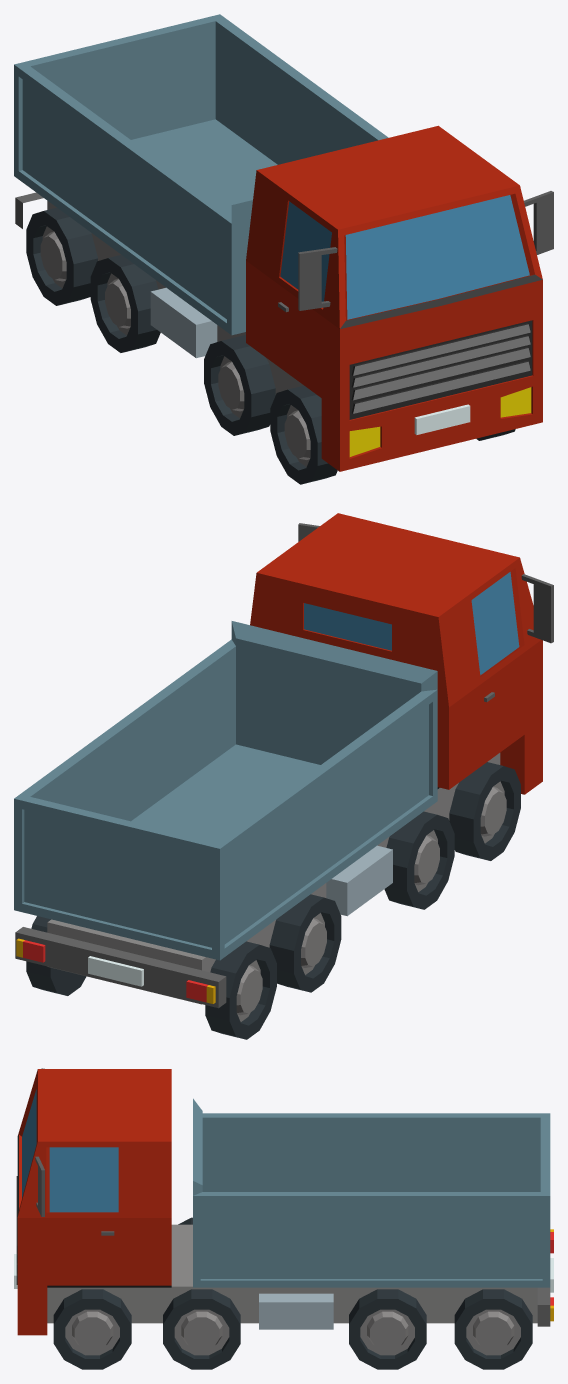
File: dump_truck.glb
3 renders of one model, top to bottom at view 1: azimuth 30°, elevation 25°; view 2: azimuth 150°, elevation 25°; view 3: azimuth 270°, elevation 25°, orthographic. The views are drawn at different scales.
Visible parts, largest first — view 1: Dumper_Truck_Red; view 2: Dumper_Truck_Red; view 3: Dumper_Truck_Red.
Boxes of the visible parts, x1,y1,x2,y2 form: Dumper_Truck_Red: [14, 14, 553, 484]; Dumper_Truck_Red: [14, 513, 553, 1039]; Dumper_Truck_Red: [14, 1068, 553, 1369].
Bounding box in the file's own units: 3.13 × 3.2 × 7.
Materials: 1 (1 with a texture image).
